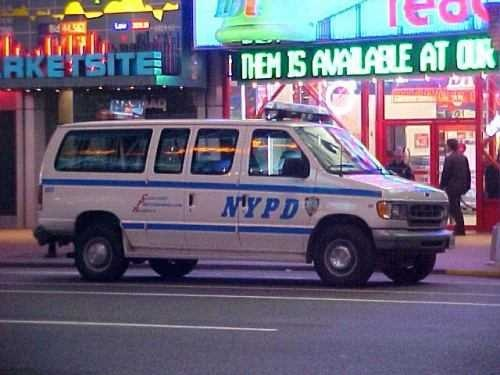Police Van: (33, 98, 453, 293)
